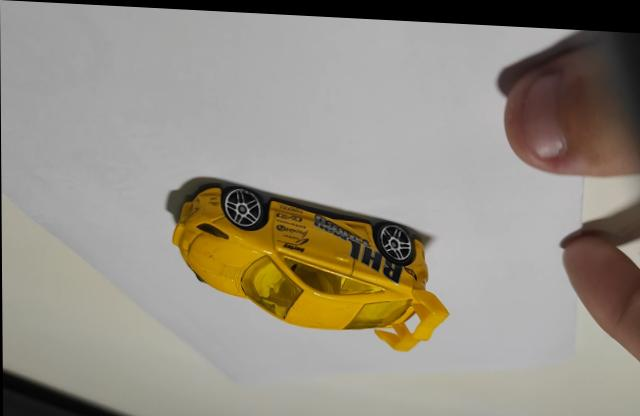07_RHLTURBO: (171, 178, 449, 347)
